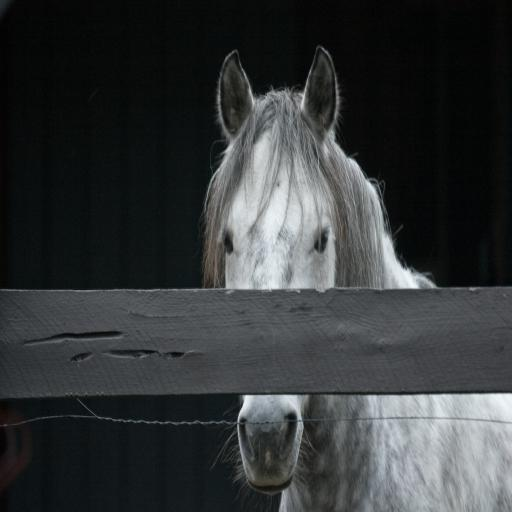horse: (198, 48, 512, 512)
